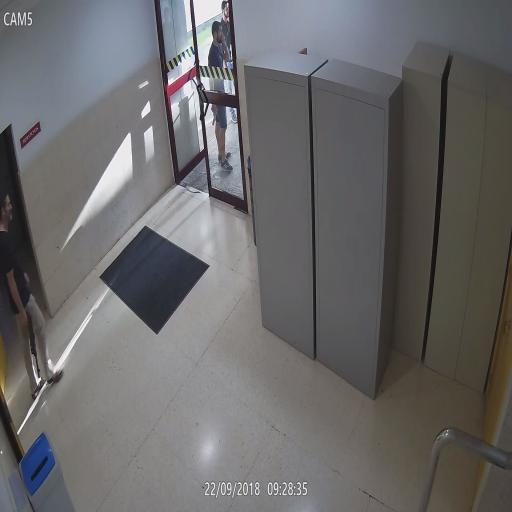Handgun: (211, 105, 218, 126)
